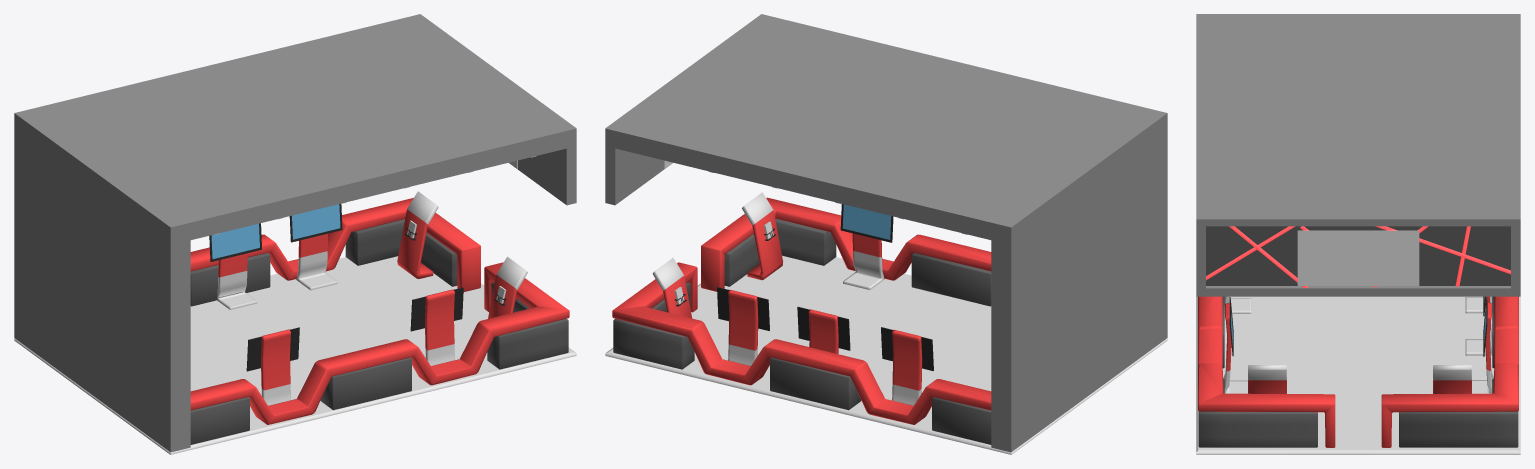
File: Expo2Booth1.fbx
3 views of the same model, side by side, from view 1: azimuth 30°, elevation 25°; view 2: azimuth 150°, elevation 25°; view 3: azimuth 270°, elevation 25° (orthographic). The views are drawn at different scales.
Visible parts, largest first — view 1: Plane, Cube.003, Plane.002, Cube.013, Cube.014, Plane.021, Plane.016, Cube.015, Plane.025, Plane.012, Plane.014, Plane.010 (+4 smaller); view 2: Plane, Cube.003, Plane.002, Cube.013, Cube.014, Plane.012, Cube.015, Plane.004, Plane.019, Plane.021, Plane.020, Plane.025 (+4 smaller); view 3: Plane, Cube.003, Plane.002, Cube.013, Plane.001, Plane.025, Plane.004, Plane.021, Plane.012, Cylinder, Plane.014, Cube.014 (+4 smaller).
Part boxes in pixels (x1=…): Plane: x1=14, y1=14, x2=576, y2=452; Cube.003: x1=14, y1=256, x2=576, y2=454; Plane.002: x1=190, y1=198, x2=569, y2=424; Cube.013: x1=345, y1=219, x2=568, y2=369; Cube.014: x1=190, y1=253, x2=411, y2=410; Plane.021: x1=425, y1=289, x2=455, y2=365; Plane.016: x1=261, y1=329, x2=291, y2=405; Cube.015: x1=190, y1=397, x2=249, y2=444; Plane.025: x1=397, y1=191, x2=438, y2=278; Plane.012: x1=296, y1=233, x2=337, y2=290; Plane.014: x1=217, y1=253, x2=257, y2=309; Plane.010: x1=289, y1=203, x2=342, y2=242; Plane: x1=605, y1=14, x2=1167, y2=452; Cube.003: x1=605, y1=255, x2=1167, y2=454; Plane.002: x1=612, y1=197, x2=991, y2=424; Cube.013: x1=613, y1=218, x2=836, y2=369; Cube.014: x1=770, y1=253, x2=991, y2=410; Plane.012: x1=728, y1=289, x2=758, y2=365; Cube.015: x1=932, y1=397, x2=991, y2=444; Plane.004: x1=742, y1=192, x2=783, y2=280; Plane.019: x1=892, y1=329, x2=922, y2=405; Plane.021: x1=843, y1=233, x2=884, y2=289; Plane.020: x1=840, y1=204, x2=893, y2=242; Plane.025: x1=652, y1=258, x2=692, y2=318; Plane: x1=1196, y1=14, x2=1520, y2=296; Cube.003: x1=1196, y1=296, x2=1520, y2=454; Plane.002: x1=1198, y1=296, x2=1518, y2=447; Cube.013: x1=1198, y1=378, x2=1518, y2=447; Plane.001: x1=1297, y1=230, x2=1419, y2=285; Plane.025: x1=1433, y1=365, x2=1471, y2=393; Plane.004: x1=1248, y1=365, x2=1286, y2=393; Plane.021: x1=1223, y1=303, x2=1247, y2=393; Plane.012: x1=1472, y1=302, x2=1493, y2=393; Cylinder: x1=1375, y1=226, x2=1510, y2=274; Plane.014: x1=1465, y1=296, x2=1492, y2=355; Cube.014: x1=1222, y1=296, x2=1494, y2=368.
Bounding box in the file's own units: 3005 × 1605 × 2000.
